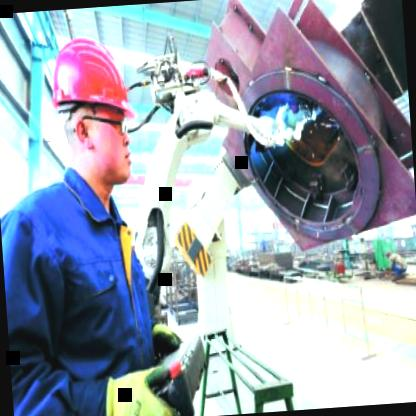helmet: (38, 22, 144, 198)
